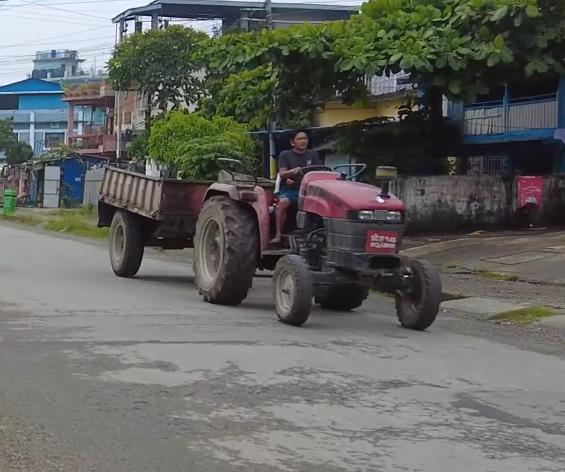tractor: (189, 127, 448, 335)
